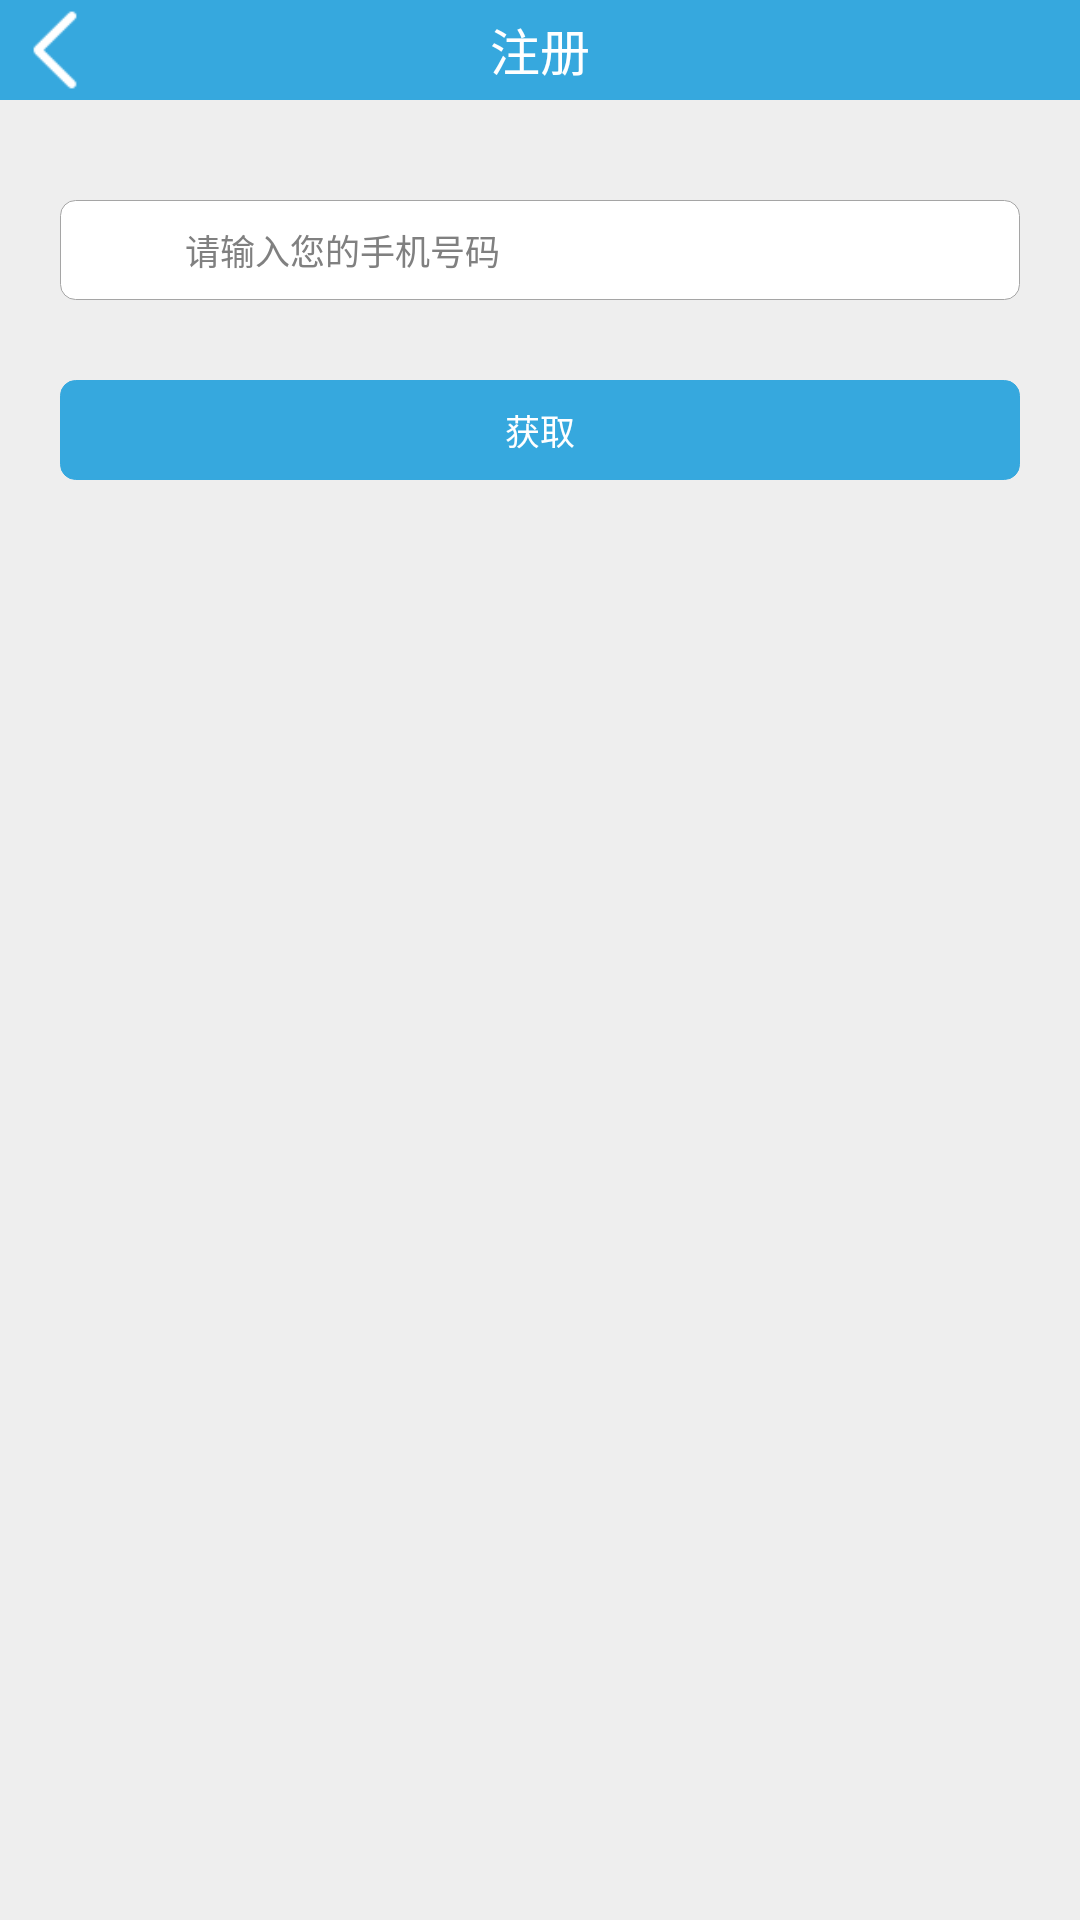

Icon click points for this 1080px x 1920px phone screenshot, format point (x, y):
leftarrowicon: point (55, 50)
